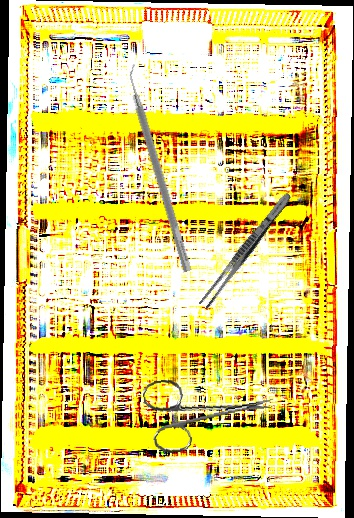Dressing Forceps: (197, 189, 295, 312)
Iris Scissors: (141, 365, 279, 456)
Spatula Surgical: (120, 62, 202, 273)
